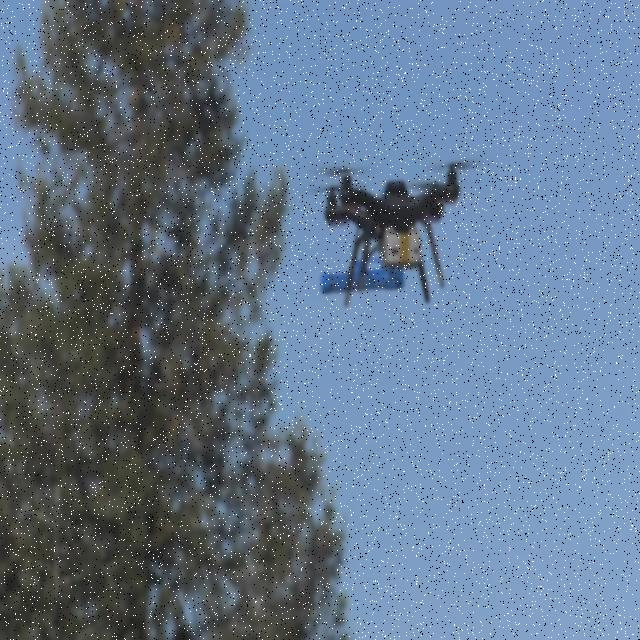UAV: (304, 162, 477, 308)
